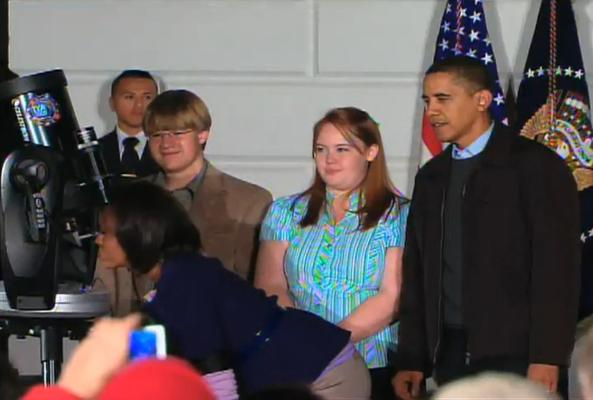person: (95, 187, 371, 400)
